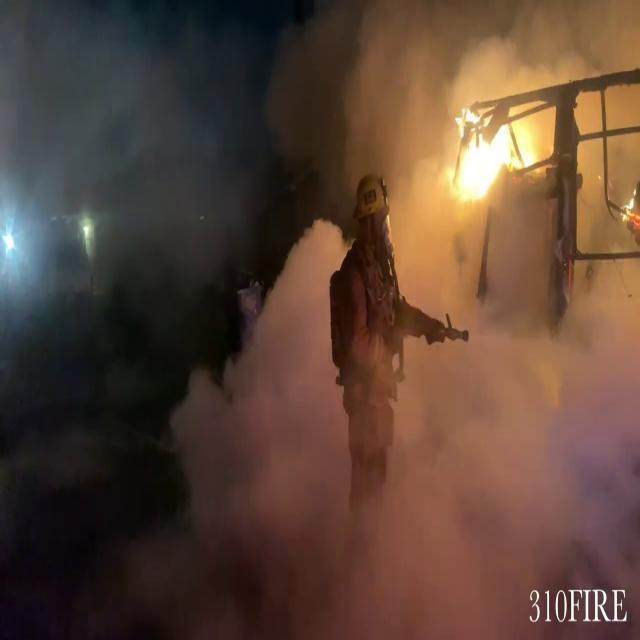Fire: (444, 99, 536, 208)
Smoke: (190, 224, 640, 633), (307, 0, 640, 238)
